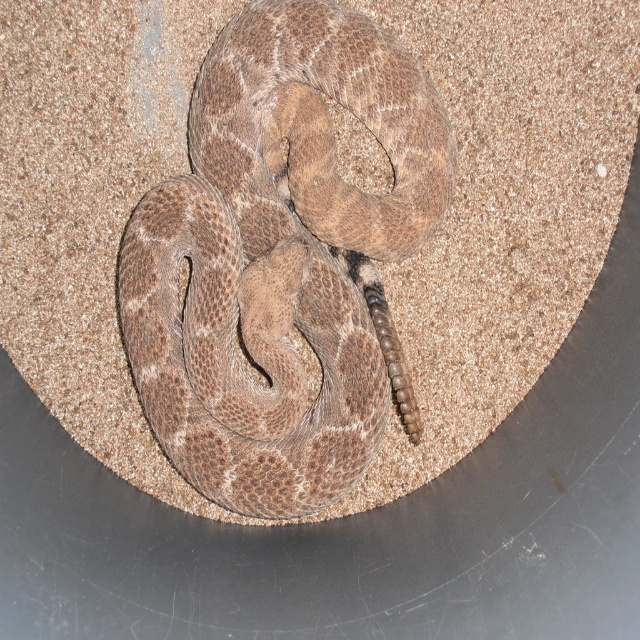Snake: (118, 0, 459, 519)
